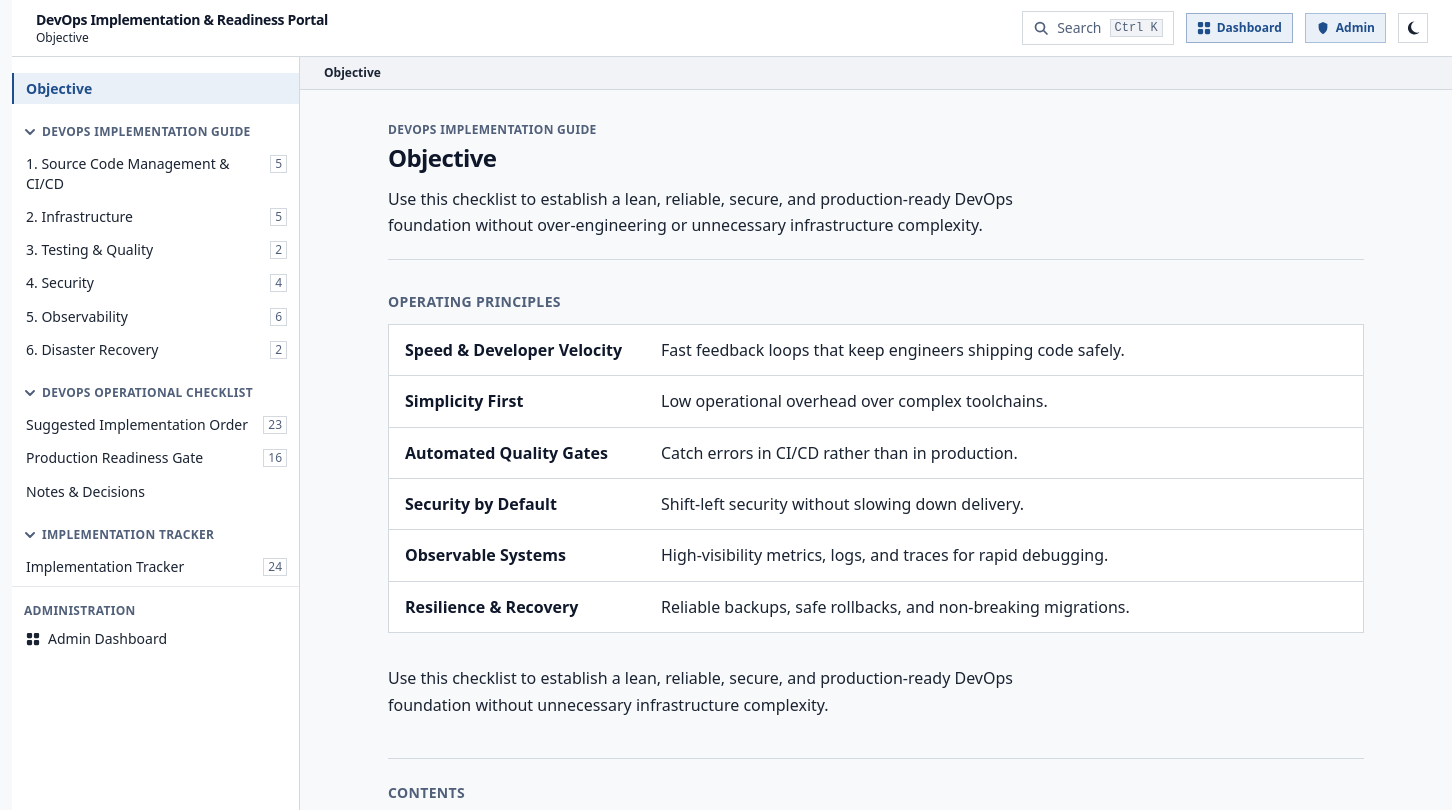
Test: app shell — sidebar built from the registry › collapses and expands a group, reflecting state in aria-expanded
This screenshot has width=1452, height=810.
Click the button "DevOps Implementation Guide" at [156, 132], box [12,120,299,144]
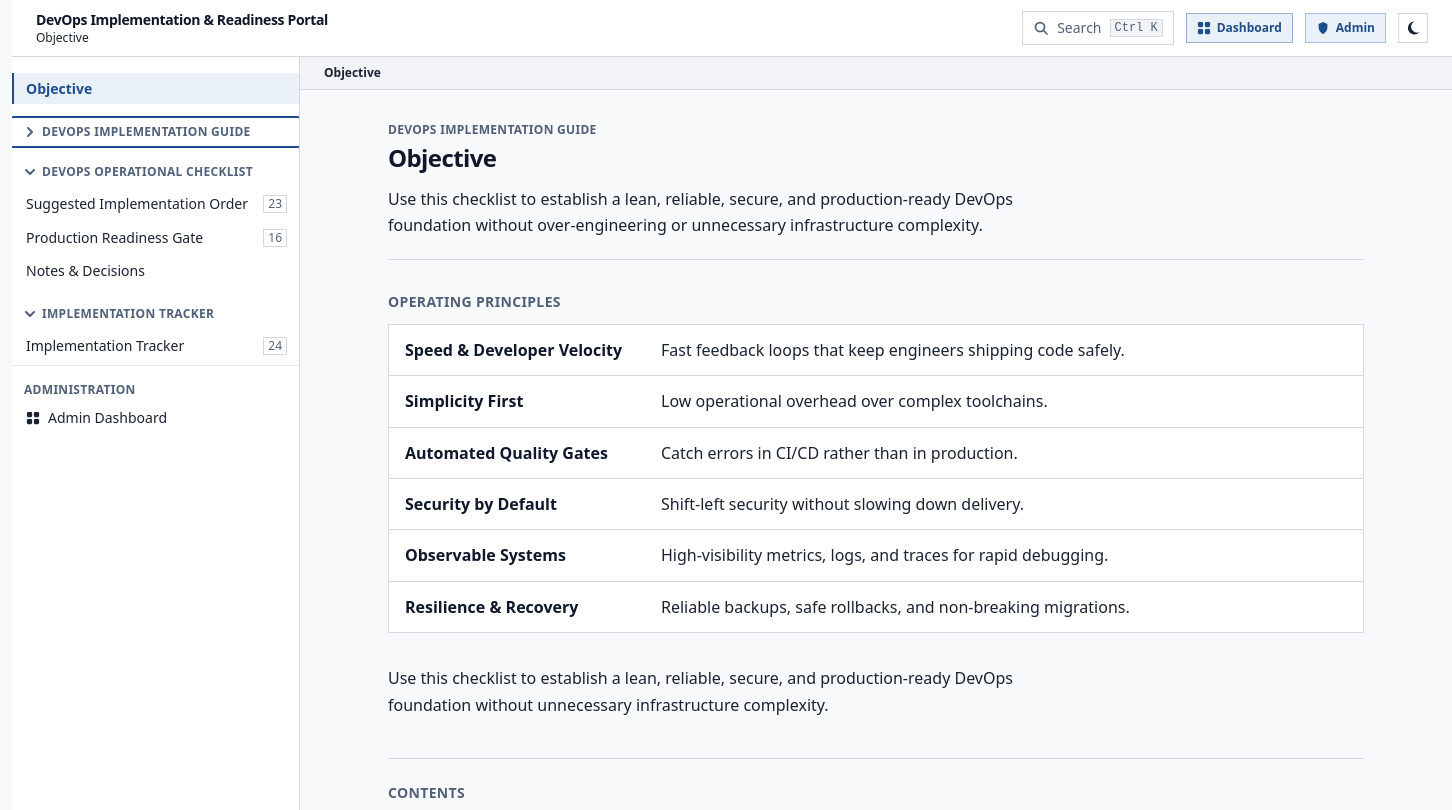
expect the button "DevOps Implementation Guide" is collapsed: met
Click the button "DevOps Implementation Guide" at [156, 132], box [12,120,299,144]
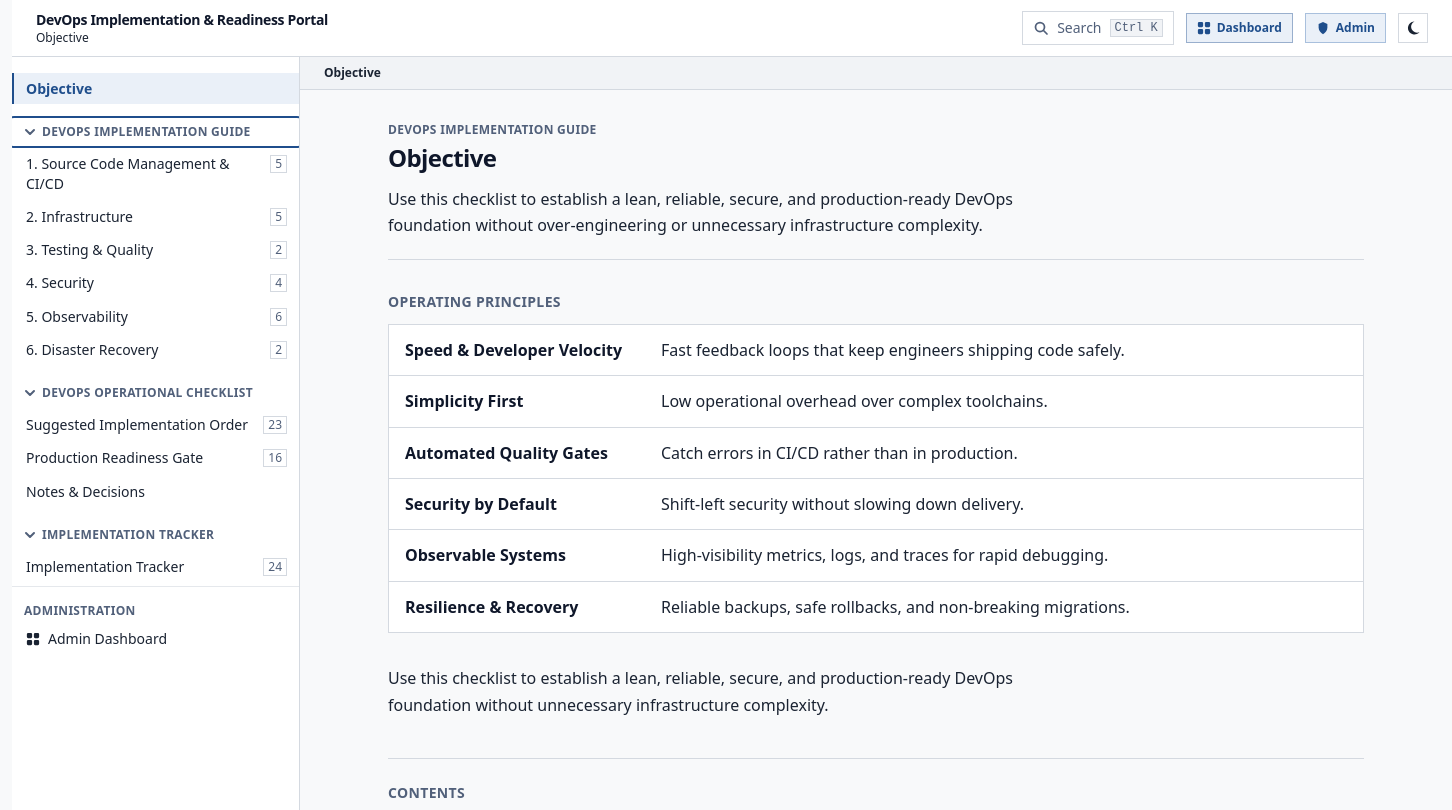
expect the button "DevOps Implementation Guide" is expanded: met, box [12,120,299,144]
